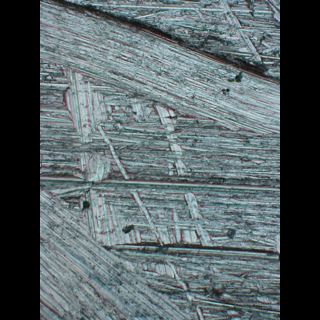d: (42, 0, 279, 317)
